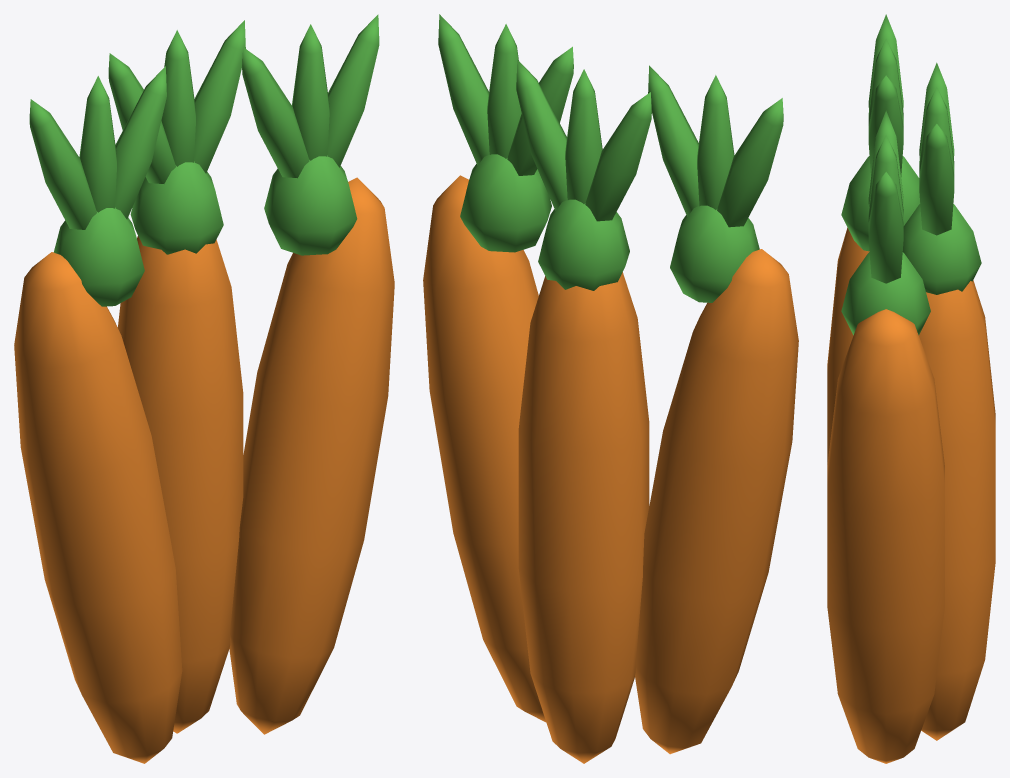
File: carrots.glb
3 views of the same model, side by side, from view 1: azimuth 30°, elevation 25°; view 2: azimuth 150°, elevation 25°; view 3: azimuth 270°, elevation 25° (orthographic). The views are drawn at different scales.
Visible parts, largest first — view 1: item; view 2: item; view 3: item.
Boxes of the visible parts, bbox=[...] form: item: bbox=[14, 14, 394, 763]; item: bbox=[423, 14, 798, 763]; item: bbox=[827, 14, 995, 763].
Bounding box in the file's own units: 0.3103 × 0.57 × 0.133.
1 material, 1 textured.
